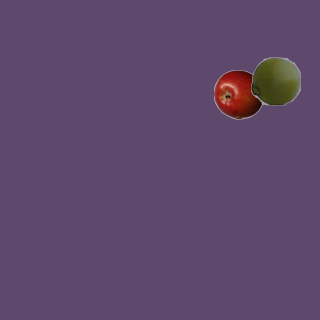Apple Braeburn: (213, 69, 263, 119)
Grape White 4: (250, 55, 300, 105)
